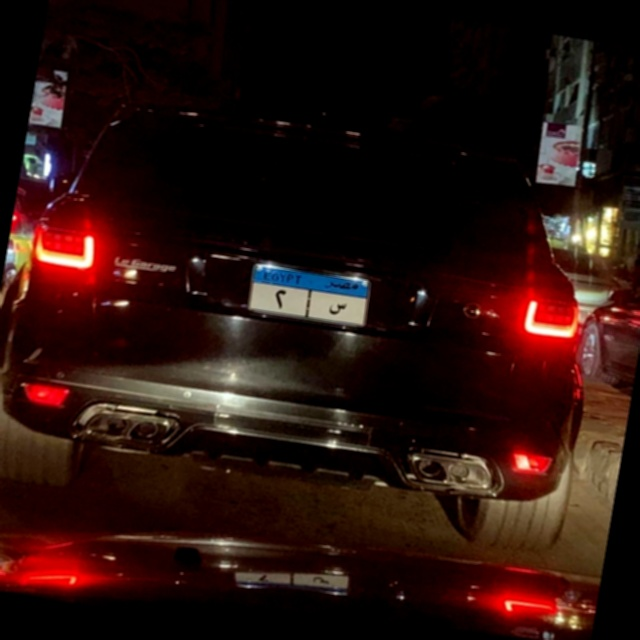License Plate: (247, 262, 374, 330)
